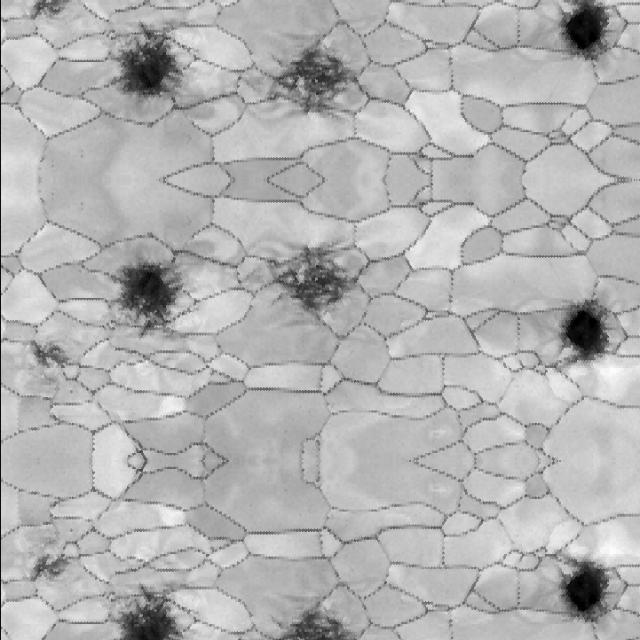good_void: (249, 230, 362, 332), (249, 26, 362, 128), (113, 246, 198, 334), (113, 24, 198, 112), (552, 288, 616, 377), (552, 544, 616, 632), (255, 592, 360, 640), (552, 0, 616, 70), (113, 588, 198, 640), (20, 333, 78, 374), (20, 546, 78, 587), (21, 0, 77, 24), (66, 385, 77, 396), (66, 525, 77, 536)
